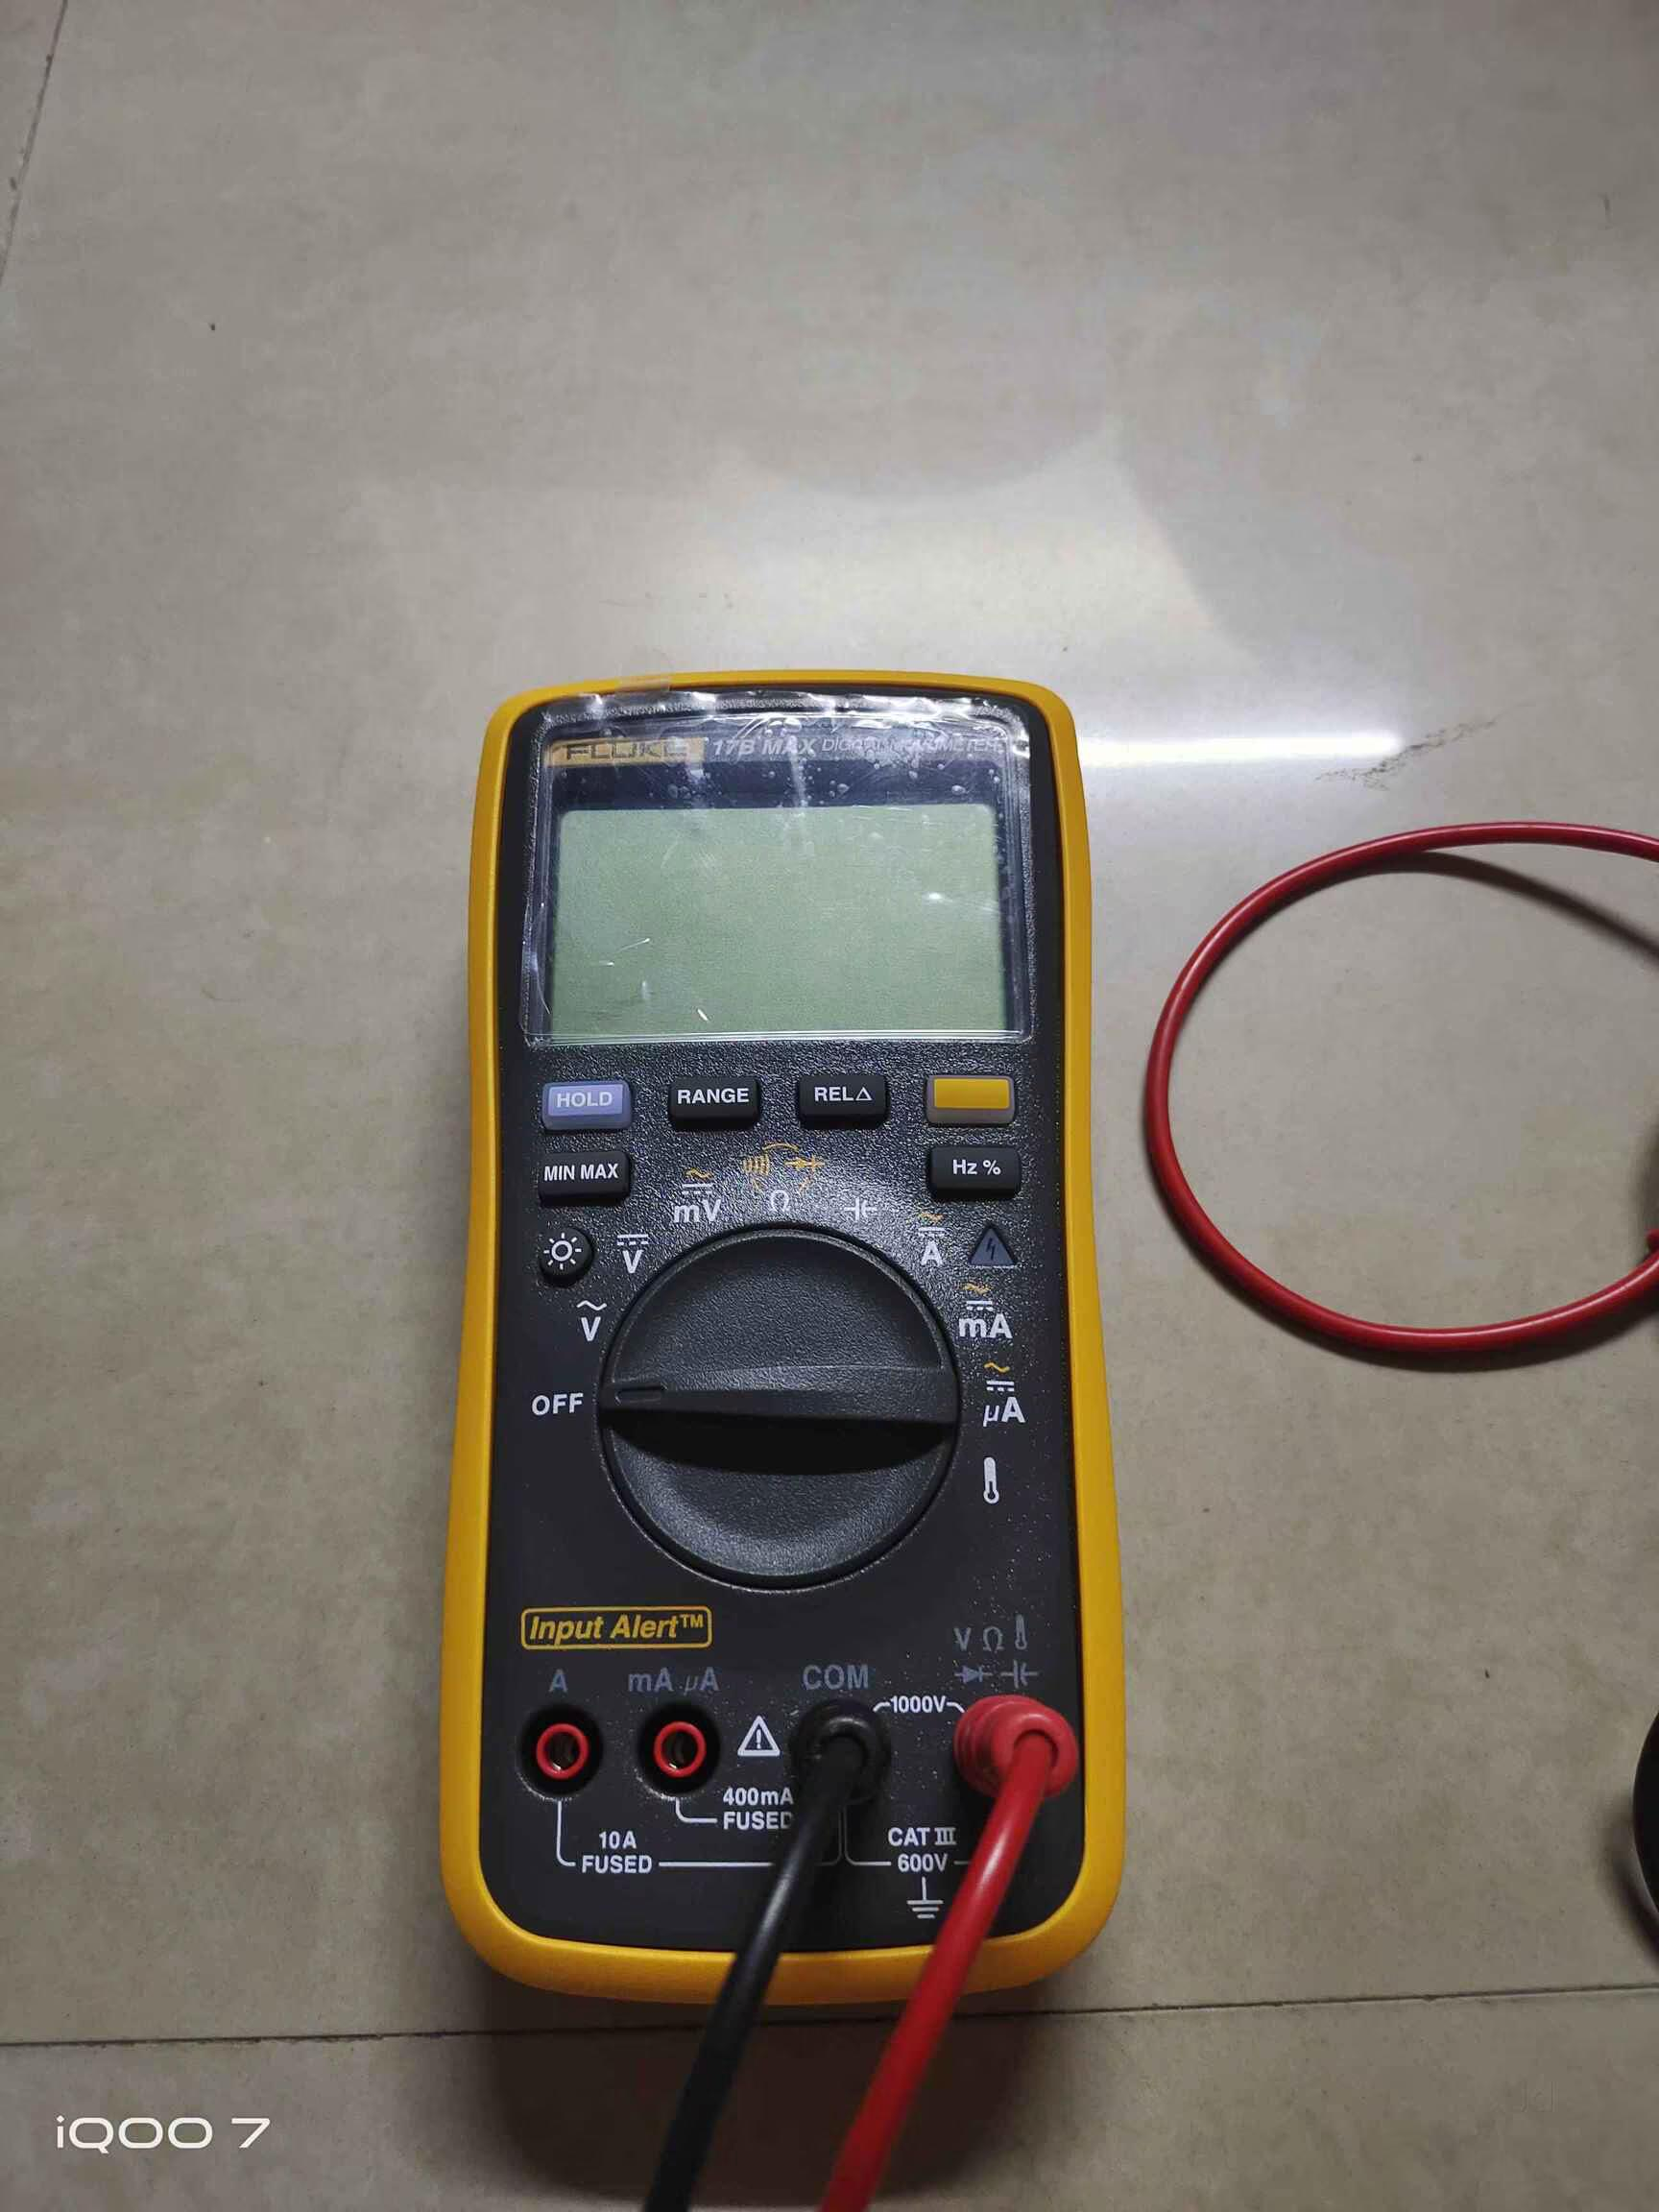multimeter: (439, 650, 1324, 2212)
